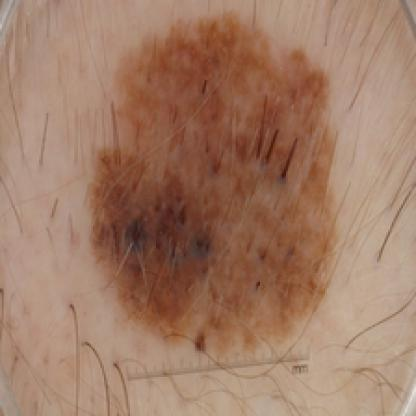malignant: (91, 24, 332, 342)
